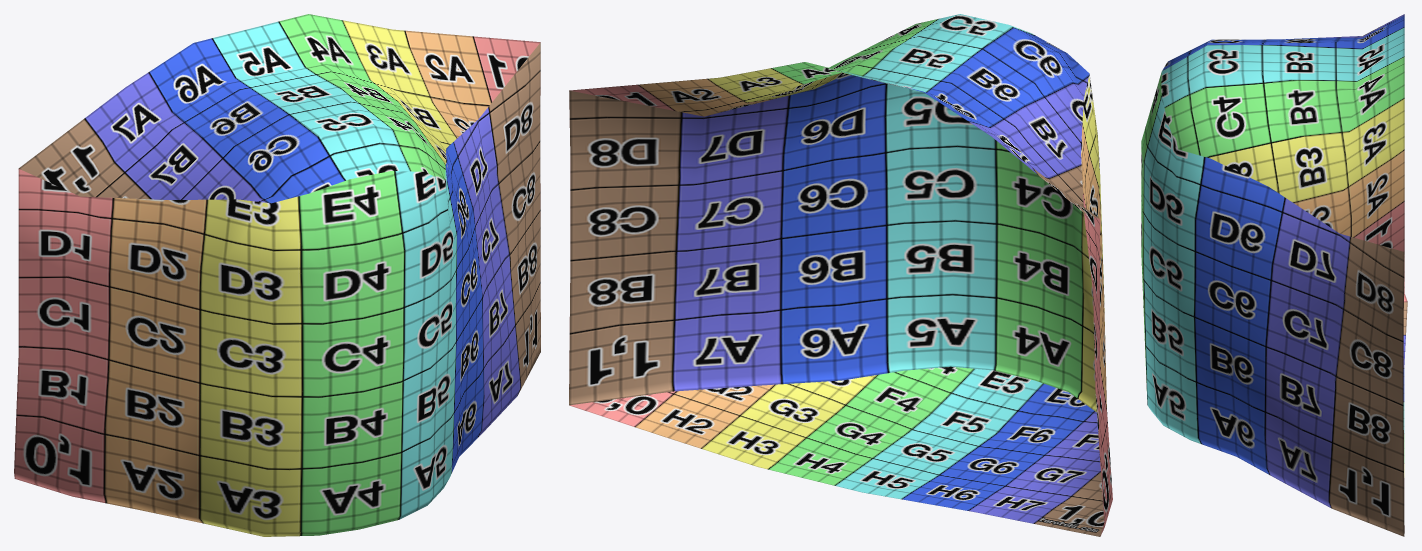
Rendered from grotte_startBehind.fbx.
3 renders of one model, left to right at view 1: azimuth 30°, elevation 25°; view 2: azimuth 150°, elevation 25°; view 3: azimuth 270°, elevation 25°, orthographic. The views are drawn at different scales.
Parts seen in each view (by area): view 1: grotte_startBehind; view 2: grotte_startBehind; view 3: grotte_startBehind.
Part boxes in pixels (box(x1,y1,x2,y2)): grotte_startBehind: box(14, 14, 540, 536); grotte_startBehind: box(569, 14, 1112, 536); grotte_startBehind: box(1141, 14, 1407, 536).
Size of the model in its own units: 866 by 644 by 412.
1 material, 1 textured.
